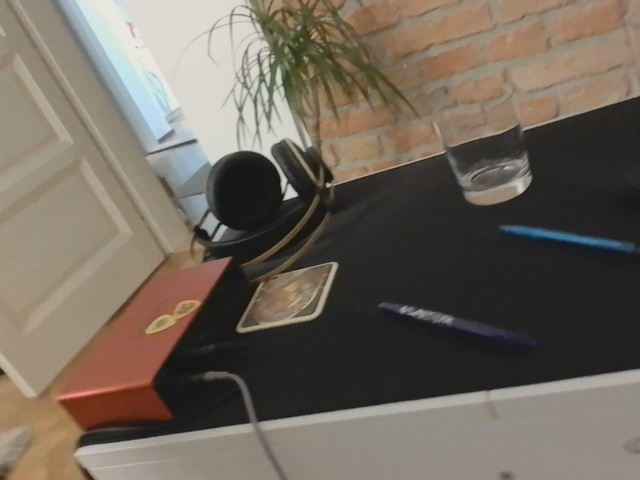glass: (429, 83, 542, 206)
pen: (372, 298, 541, 350), (497, 220, 638, 257)
